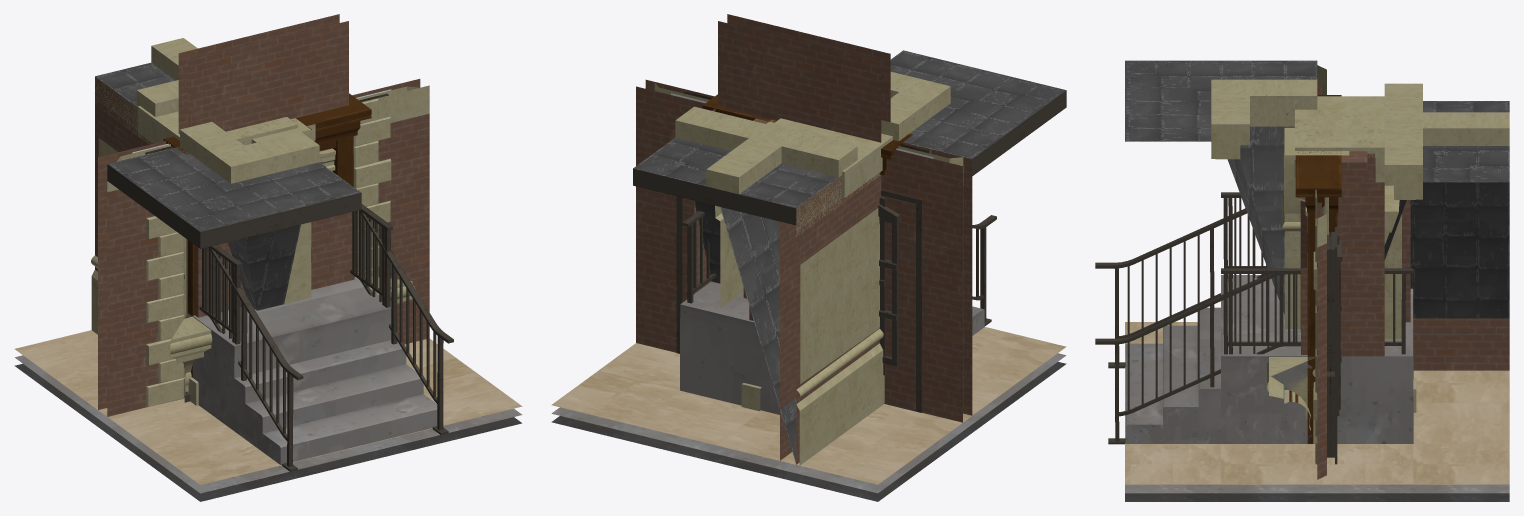
Rendered from facade.glb.
3 renders of one model, left to right at view 1: azimuth 30°, elevation 25°; view 2: azimuth 150°, elevation 25°; view 3: azimuth 270°, elevation 25°, orthographic. The views are drawn at different scales.
Visible parts, largest first — view 1: Brick_RedWhite_DoubleWindow, Floor_4x4, Stairs_Entrance_Concrete, Roof_Slate_InnerCorner, Brick_Plain_4, Roof_SlateCornice_InnerCorner, Stairs_Rails_Metal, Entrance_Concrete_2x1, Brick_Inset, Roof_4x4, Entrance_Concrete_2x2, DoorFrame_Wooden (+17 smaller); view 2: Floor_4x4, Brick_Inset, Trim_Corner, Brick_Plain_4, Roof_SlateCornice_Corner, Roof_Slate_InnerCorner, Brick_Corner_Plain, Entrance_Concrete_2x2, Metal_Window, Brick_TopTrim_Corner, Roof_4x4, Roof_SlateCornice_Window_1 (+11 smaller); view 3: Floor_4x4, Roof_Slate_InnerCorner, Stairs_Entrance_Concrete, Roof_Slate_Corner, Stairs_Rails_Metal, Roof_SlateCornice_Corner, Brick_TopTrim_90Angle_R, Entrance_Concrete_2x1, Entrance_Concrete_2x2, Roof_SlateCornice_InnerCorner, Trim_Corner, Brick_CornerColumn_CapShort (+21 smaller).
Part boxes in pixels (left/top/right/bottom): Brick_RedWhite_DoubleWindow: left=98, top=79, right=420, bottom=414; Floor_4x4: left=15, top=330, right=522, bottom=493; Stairs_Entrance_Concrete: left=192, top=277, right=437, bottom=464; Roof_Slate_InnerCorner: left=107, top=147, right=361, bottom=248; Brick_Plain_4: left=188, top=21, right=348, bottom=171; Roof_SlateCornice_InnerCorner: left=180, top=121, right=319, bottom=310; Stairs_Rails_Metal: left=202, top=210, right=453, bottom=471; Entrance_Concrete_2x1: left=192, top=287, right=391, bottom=430; Brick_Inset: left=107, top=85, right=429, bottom=416; Roof_4x4: left=14, top=363, right=521, bottom=501; Entrance_Concrete_2x2: left=234, top=308, right=391, bottom=378; DoorFrame_Wooden: left=163, top=93, right=371, bottom=377; Floor_4x4: left=551, top=327, right=1066, bottom=493; Brick_Inset: left=636, top=86, right=962, bottom=422; Trim_Corner: left=796, top=208, right=884, bottom=465; Brick_Plain_4: left=718, top=14, right=890, bottom=142; Roof_SlateCornice_Corner: left=633, top=106, right=796, bottom=463; Roof_Slate_InnerCorner: left=890, top=50, right=1066, bottom=175; Brick_Corner_Plain: left=780, top=173, right=881, bottom=464; Entrance_Concrete_2x2: left=680, top=281, right=779, bottom=414; Metal_Window: left=645, top=79, right=972, bottom=415; Brick_TopTrim_Corner: left=780, top=173, right=881, bottom=463; Roof_4x4: left=551, top=362, right=1066, bottom=501; Roof_SlateCornice_Window_1: left=675, top=113, right=857, bottom=219; Floor_4x4: left=1125, top=322, right=1509, bottom=493; Roof_Slate_InnerCorner: left=1125, top=60, right=1317, bottom=314; Stairs_Entrance_Concrete: left=1125, top=307, right=1307, bottom=443; Roof_Slate_Corner: left=1410, top=182, right=1509, bottom=318; Stairs_Rails_Metal: left=1095, top=208, right=1300, bottom=444; Roof_SlateCornice_Corner: left=1384, top=112, right=1509, bottom=259; Brick_TopTrim_90Angle_R: left=1337, top=153, right=1384, bottom=356; Entrance_Concrete_2x1: left=1221, top=275, right=1307, bottom=443; Entrance_Concrete_2x2: left=1337, top=288, right=1413, bottom=443; Roof_SlateCornice_InnerCorner: left=1211, top=79, right=1317, bottom=159; Trim_Corner: left=1413, top=318, right=1509, bottom=370; Brick_CornerColumn_CapShort: left=1295, top=96, right=1384, bottom=150.
Bounding box in the file's own units: 4 × 4.2 × 4.31.
Materials: 9 (7 with a texture image).
